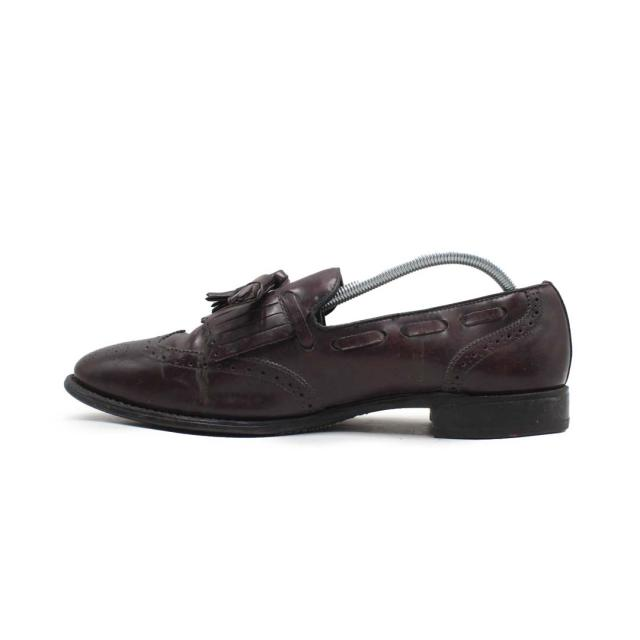heel: (476, 281, 572, 394)
midsole: (65, 375, 571, 441)
uppersole: (72, 267, 481, 415)
